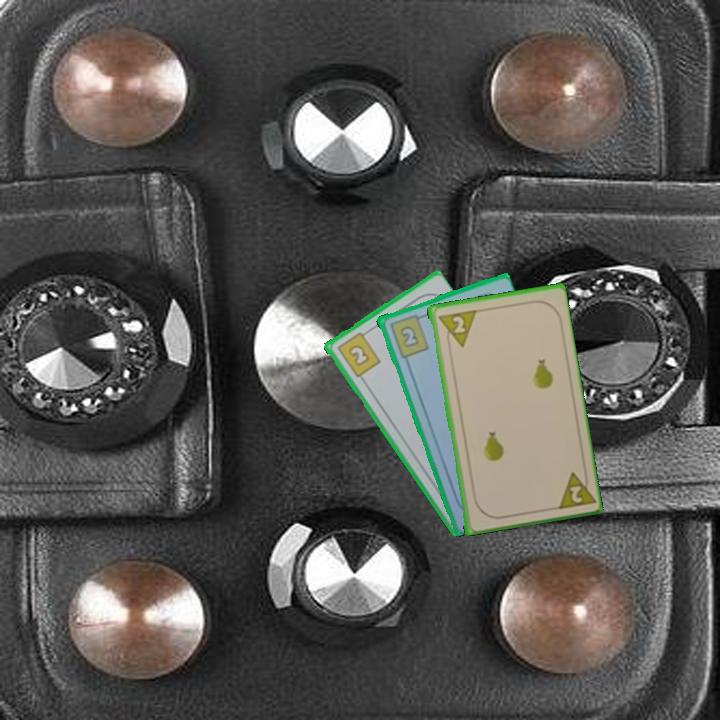2b: (333, 327, 383, 380), (386, 311, 431, 360)
2p: (552, 465, 596, 512), (434, 306, 478, 351)
